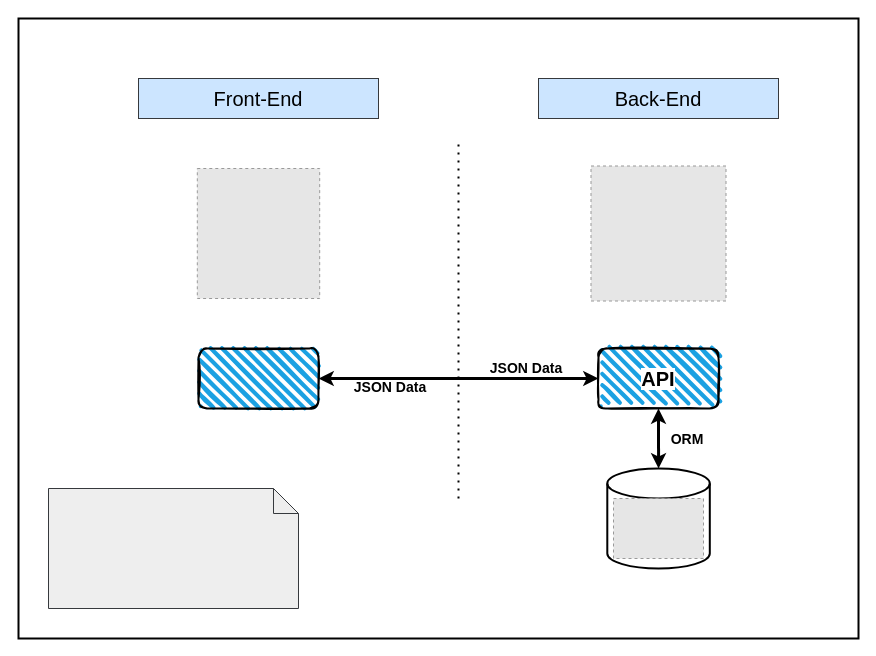
The diagram is 876 pixels wide and 656 high, and some of its shapes have lost their labels. Grey dashed boxes stand in for pictures. The shapes that lost their labels are listed below. From the top down, each one's centre as x and y in pixels, then its label:
(258,378): Page
(173,548): Project Architecture Exam Portal
